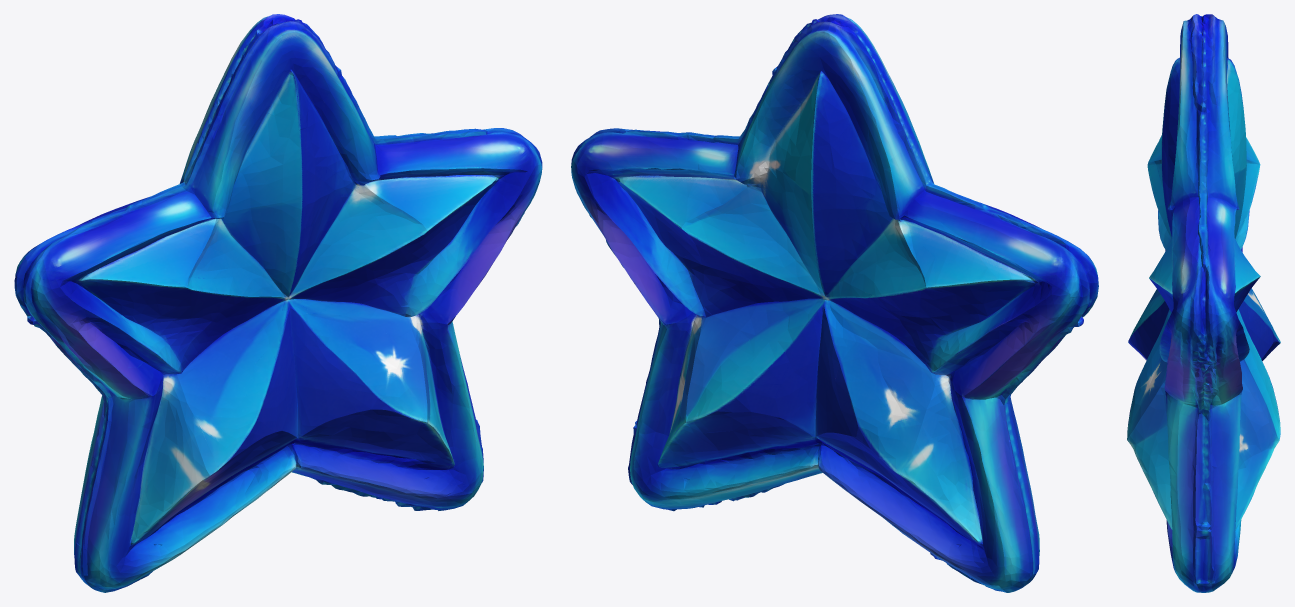
The model's file is star-blue.glb.
3 views of the same model, side by side, from view 1: azimuth 30°, elevation 25°; view 2: azimuth 150°, elevation 25°; view 3: azimuth 270°, elevation 25° (orthographic). The views are drawn at different scales.
Parts seen in each view (by area): view 1: world; view 2: world; view 3: world.
Part boxes in pixels (box(x1,y1,x2,y2)): world: box(14, 14, 542, 592); world: box(571, 14, 1098, 592); world: box(1127, 14, 1280, 592).
Bounding box in the file's own units: 0.7002 × 0.6847 × 0.1925.
Materials: 1 (1 with a texture image).
